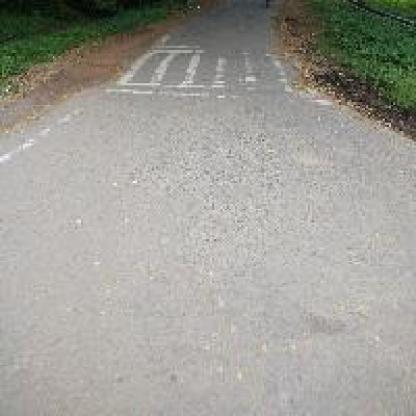Speed Bump: (104, 44, 287, 92)
